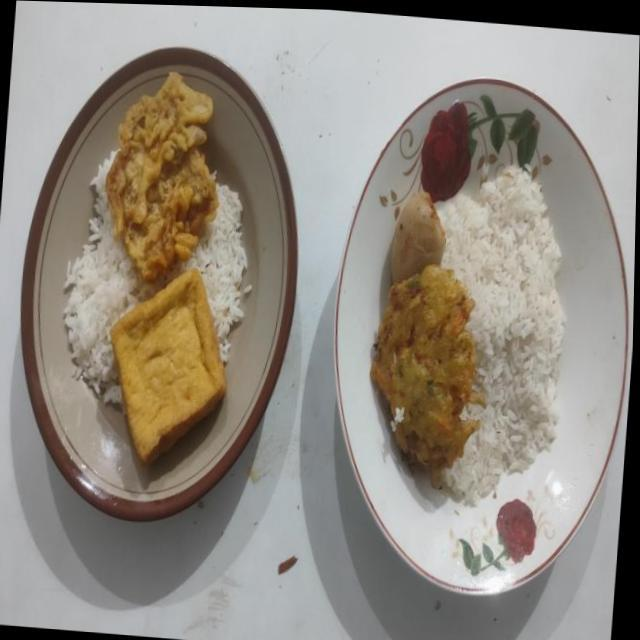nasi_putih: (63, 153, 252, 404), (437, 167, 566, 506)
tahu_goreng: (111, 269, 226, 462)
